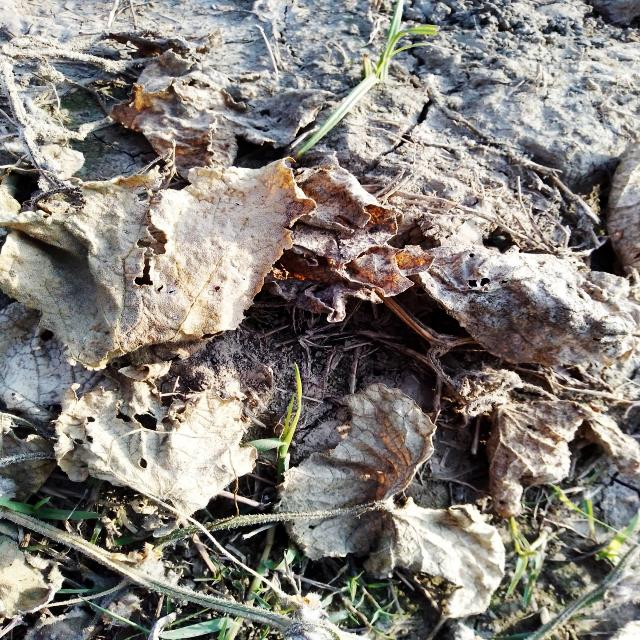Bacterial-Wilt: (0, 145, 318, 379), (276, 382, 507, 624), (51, 367, 260, 540), (268, 152, 436, 326)
